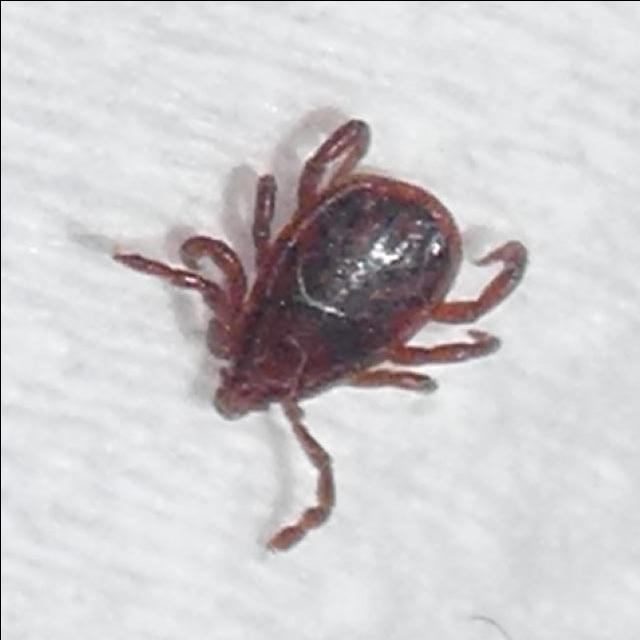Rhipicephalus Sanguineus-M: (111, 117, 529, 552)
